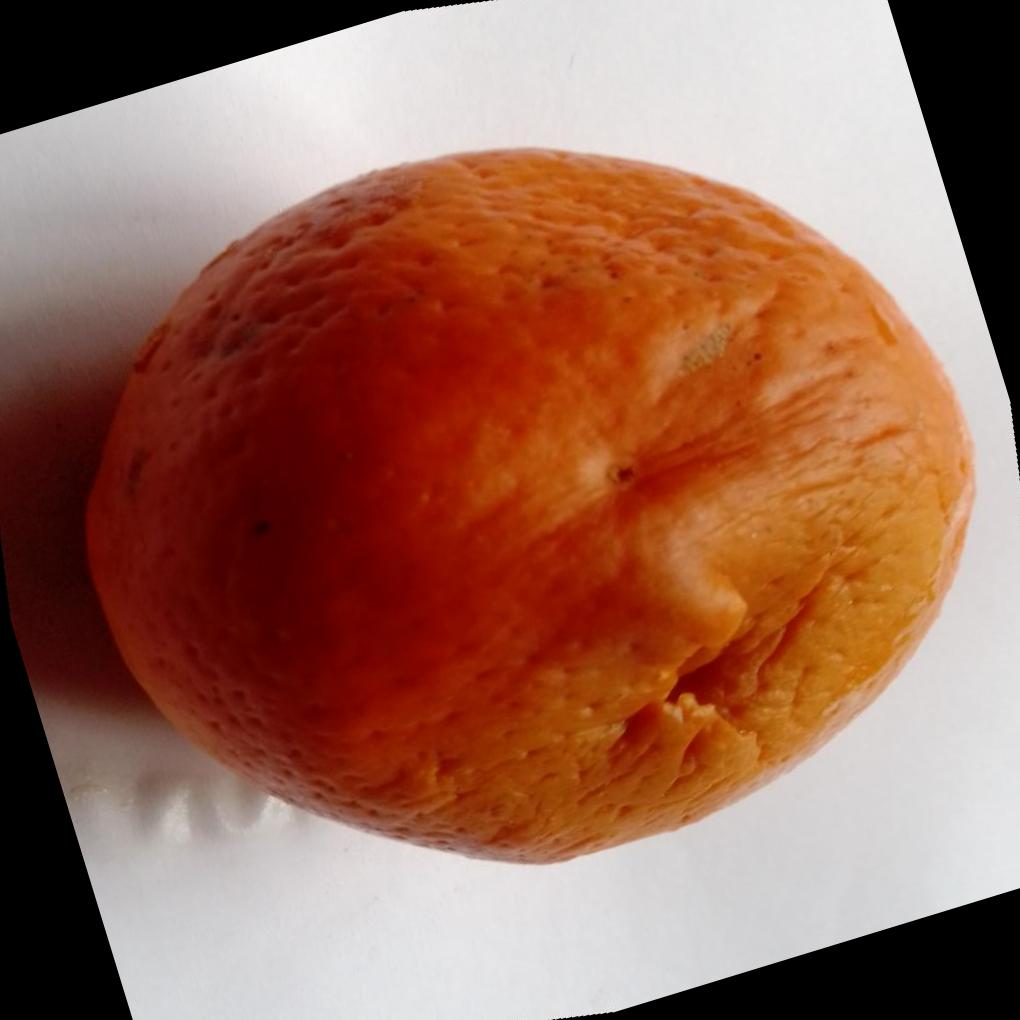FreshOrange: (84, 142, 980, 865)
